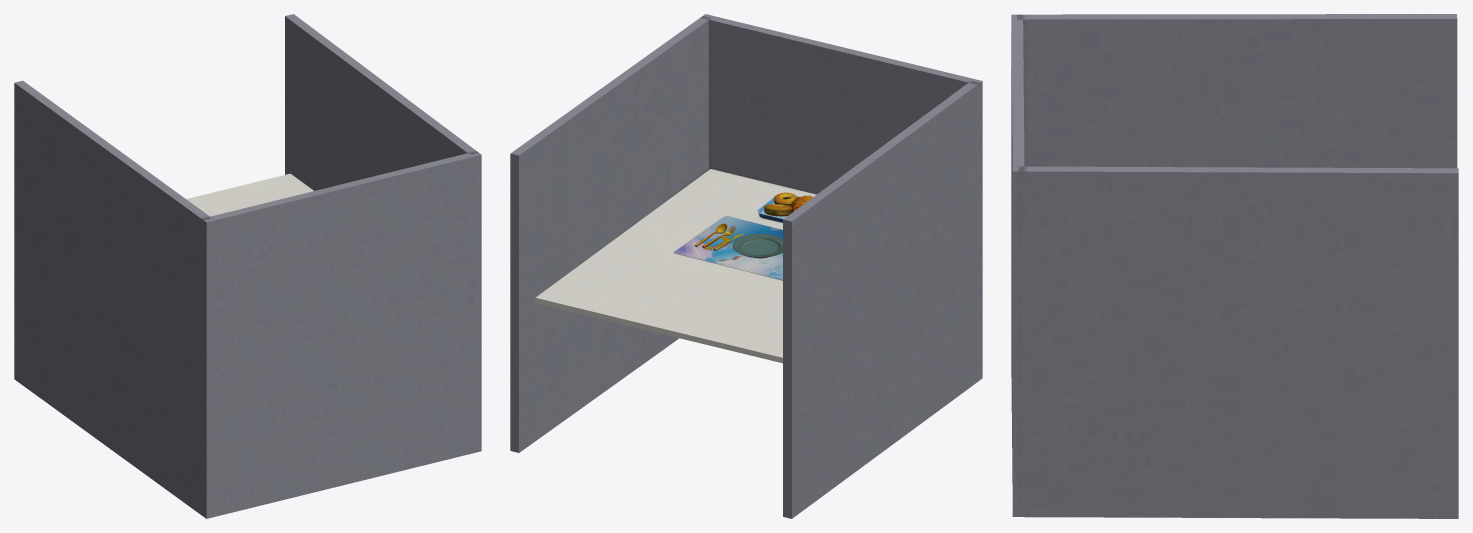
Rendered from ours.glb.
3 views of the same model, side by side, from view 1: azimuth 30°, elevation 25°; view 2: azimuth 150°, elevation 25°; view 3: azimuth 270°, elevation 25° (orthographic). The views are drawn at different scales.
Parts seen in each view (by area): view 1: wall_0, wall_2, wall_1, table_0; view 2: wall_2, wall_1, wall_0, table_0, obj_placemat_0, obj_plate_0; view 3: wall_1, wall_2, wall_0.
Boxes of the visible parts, bbox=[...] form: wall_0: bbox=[202, 151, 481, 518]; wall_2: bbox=[14, 80, 209, 516]; wall_1: bbox=[285, 14, 478, 190]; table_0: bbox=[186, 173, 313, 216]; wall_2: bbox=[783, 81, 980, 518]; wall_1: bbox=[510, 16, 710, 452]; wall_0: bbox=[701, 14, 982, 379]; table_0: bbox=[535, 169, 816, 363]; obj_placemat_0: bbox=[674, 216, 782, 280]; obj_plate_0: bbox=[733, 234, 782, 258]; wall_1: bbox=[1018, 166, 1458, 518]; wall_2: bbox=[1017, 14, 1457, 168]; wall_0: bbox=[1011, 14, 1024, 516].
Bounding box in the file's own units: 1.28 × 1.3 × 1.52.
Materials: 16 (16 with a texture image).
